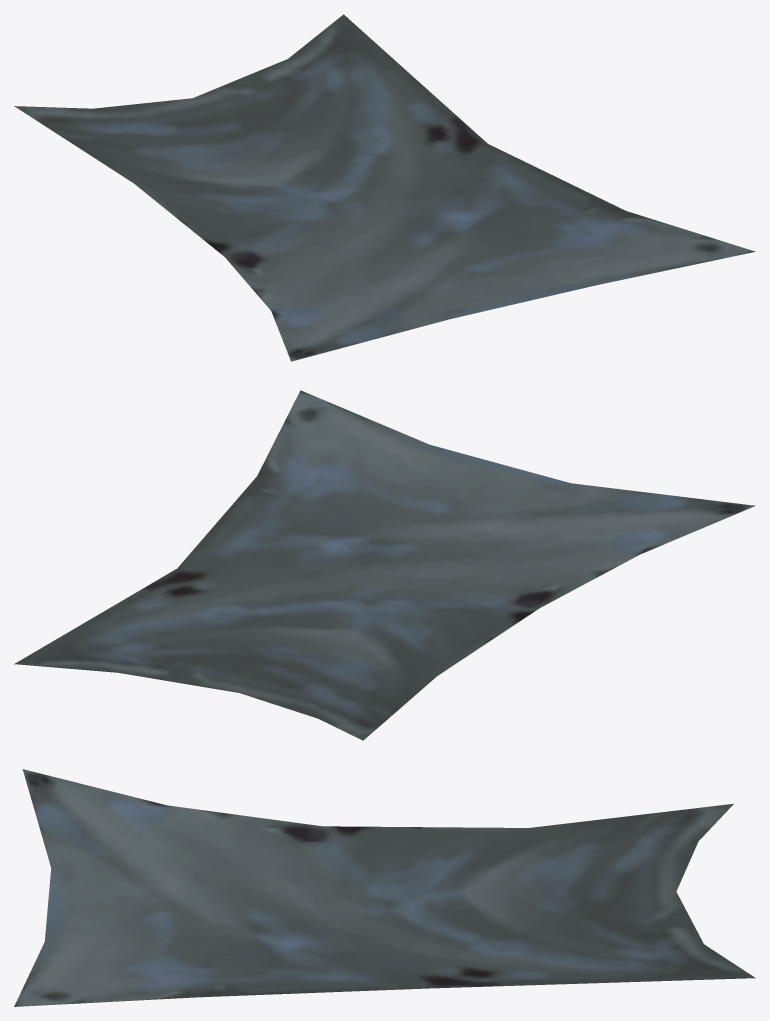
File: yw_bingyuan_fanbu_001.FBX
3 renders of one model, top to bottom at view 1: azimuth 30°, elevation 25°; view 2: azimuth 150°, elevation 25°; view 3: azimuth 270°, elevation 25°, orthographic. The views are drawn at different scales.
Visible parts, largest first — view 1: yw_bingyuan_fanbu_001; view 2: yw_bingyuan_fanbu_001; view 3: yw_bingyuan_fanbu_001.
Part boxes in pixels (<box>): yw_bingyuan_fanbu_001: <box>14,14,755,361</box>; yw_bingyuan_fanbu_001: <box>14,390,755,740</box>; yw_bingyuan_fanbu_001: <box>14,769,755,1006</box>.
Bounding box in the file's own units: 31.85 × 41.89 × 1.53.
